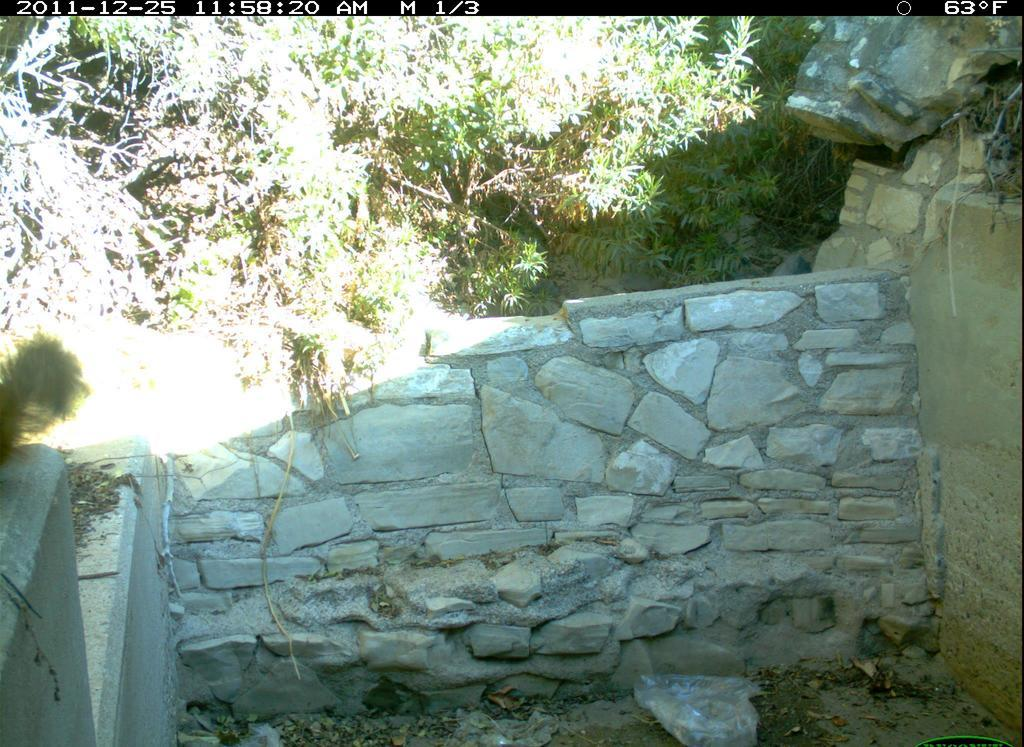squirrel: (2, 324, 91, 465)
